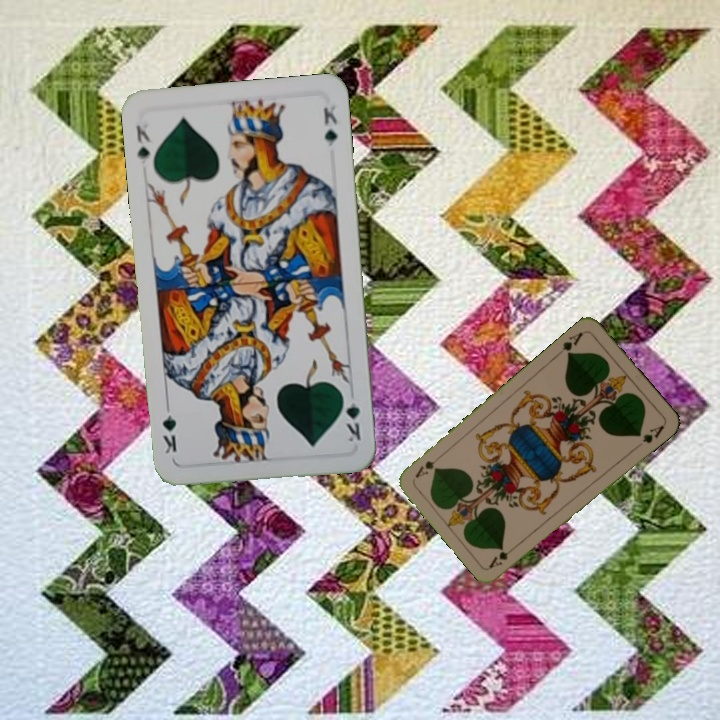GA: (485, 541, 520, 571), (558, 328, 586, 359)
GK: (338, 388, 363, 445), (132, 121, 153, 166)
